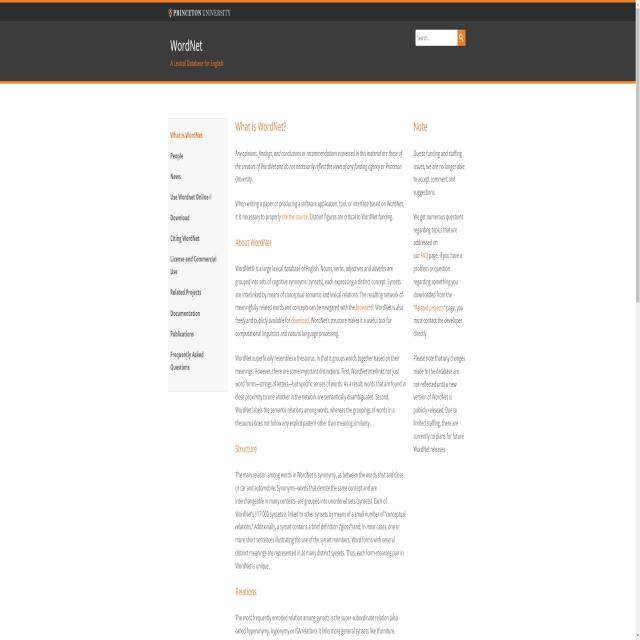content: (408, 111, 472, 458)
menu-panel: (166, 130, 230, 402)
search: (414, 28, 467, 48)
